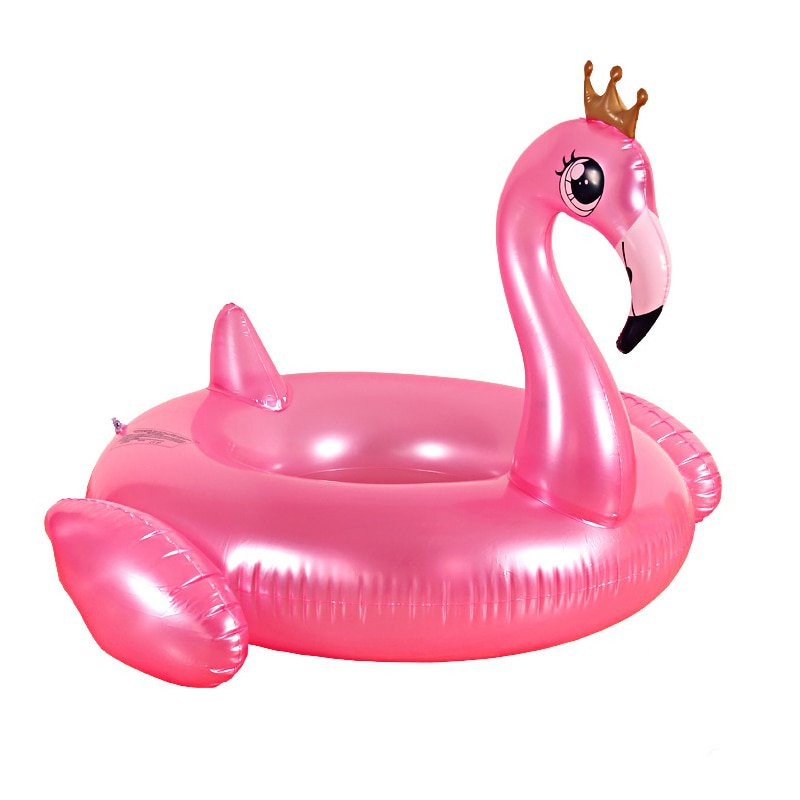Flamingo: (42, 115, 730, 692)
